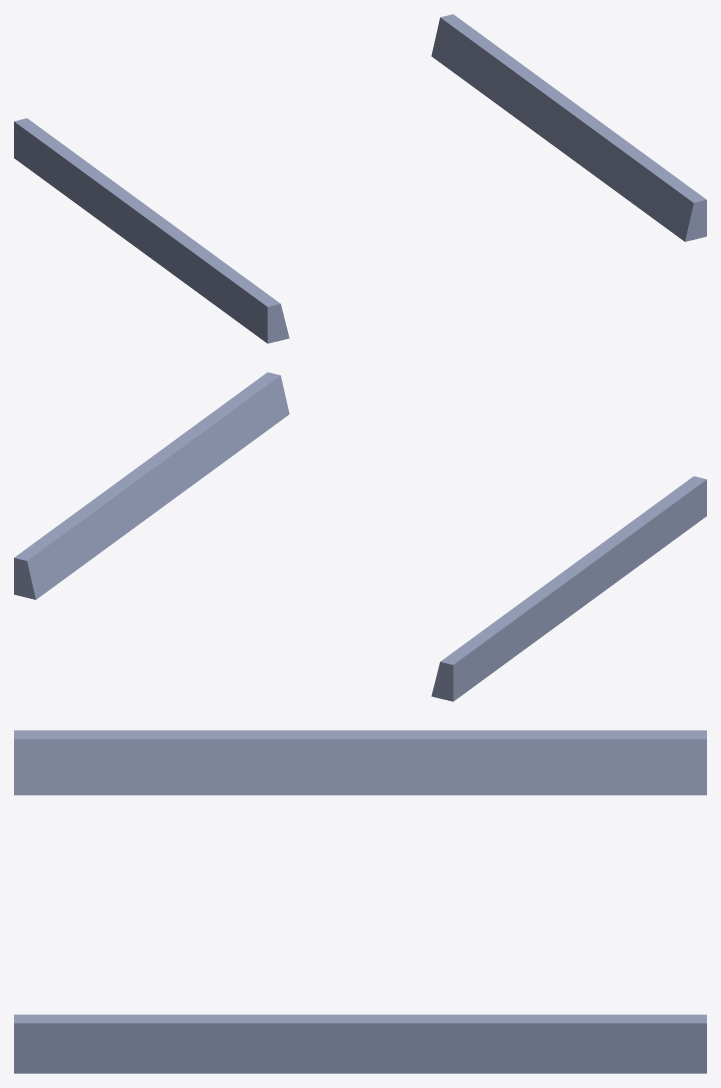
File: road-straight-barrier.glb
3 views of the same model, one above another, from view 1: azimuth 30°, elevation 25°; view 2: azimuth 150°, elevation 25°; view 3: azimuth 270°, elevation 25° (orthographic). The views are drawn at different scales.
Parts seen in each view (by area): view 1: road-straight-barrier; view 2: road-straight-barrier; view 3: road-straight-barrier.
Part boxes in pixels (box(x1,y1,x2,y2)): road-straight-barrier: box(14, 14, 706, 343); road-straight-barrier: box(14, 372, 706, 701); road-straight-barrier: box(14, 730, 706, 1073).
Bounding box in the file's own units: 1 × 0.08 × 1.
Materials: 1 (1 with a texture image).
